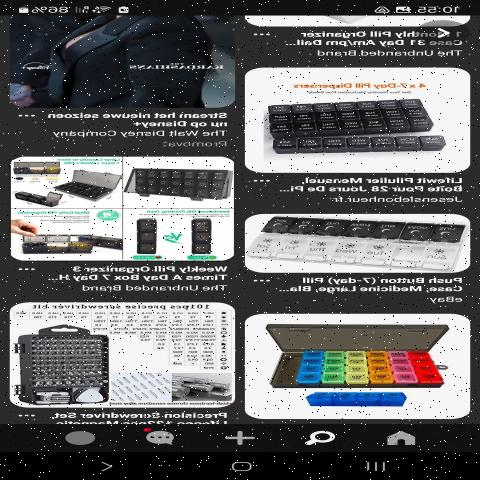hands: (253, 222, 469, 268), (244, 92, 447, 138), (122, 165, 226, 202)
